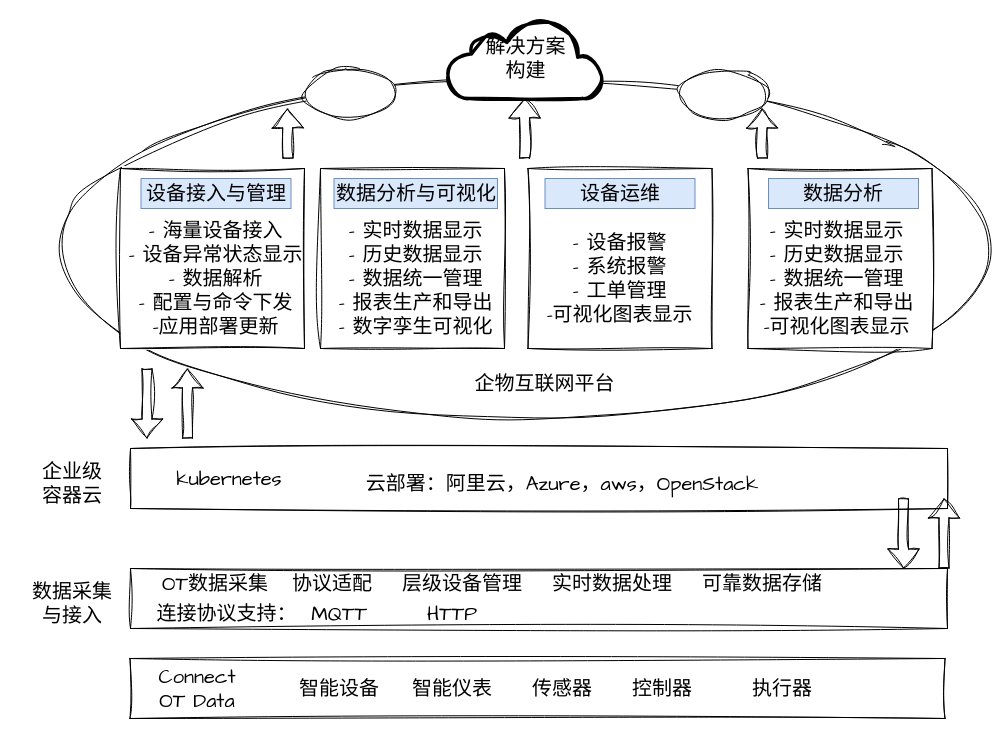
This 1008x736 diagram has some shape labels left out. Here are the shapes that lost their labels. From the top down, the centre of each, then its label:
[349,93]: 高效数据处理
[723,93]: 海量设备接入
